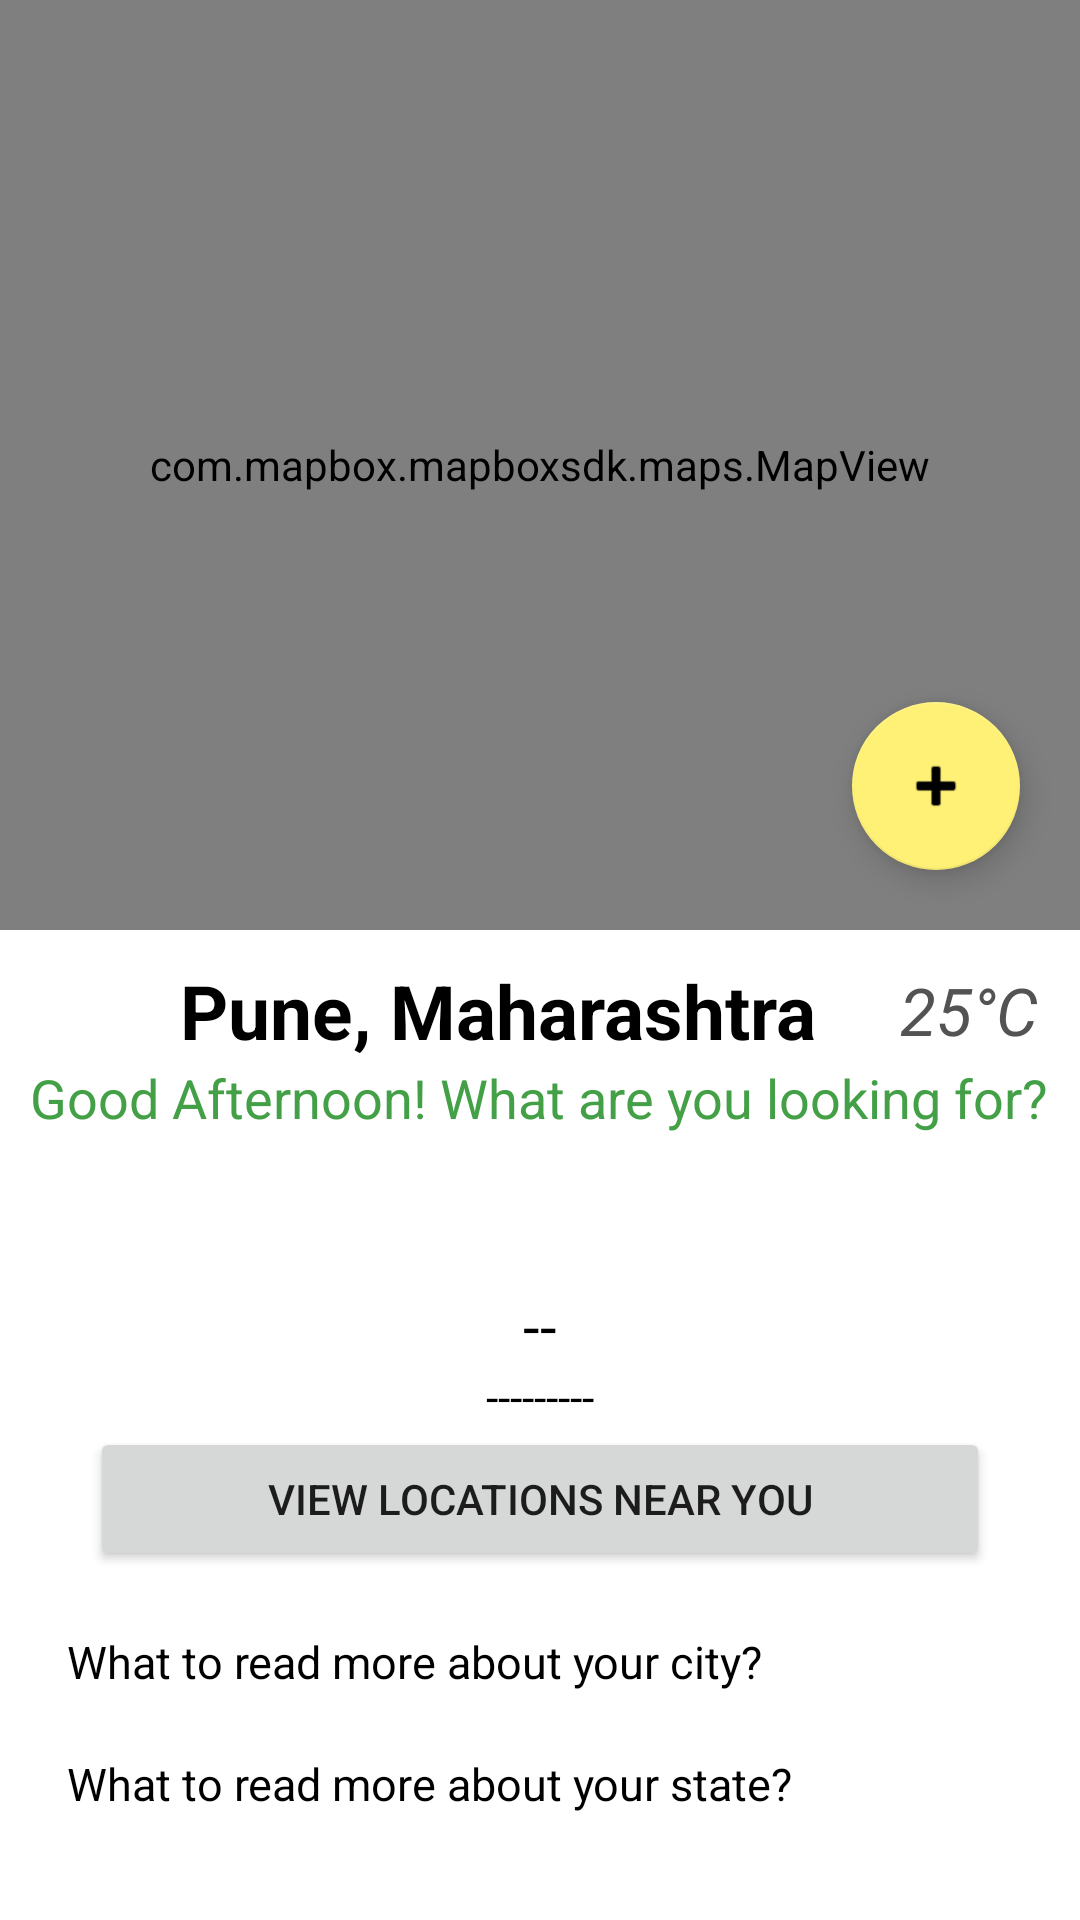

Icons on this 1080*1920 Android screen, each with its box as (left=x1, top=y1, right=x2, bottom=y2):
Add Location: (left=852, top=702, right=1020, bottom=870)
